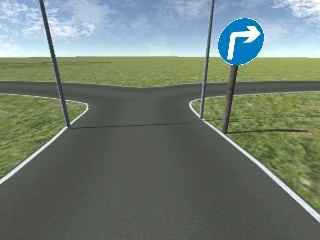TRight: (217, 17, 265, 68)
